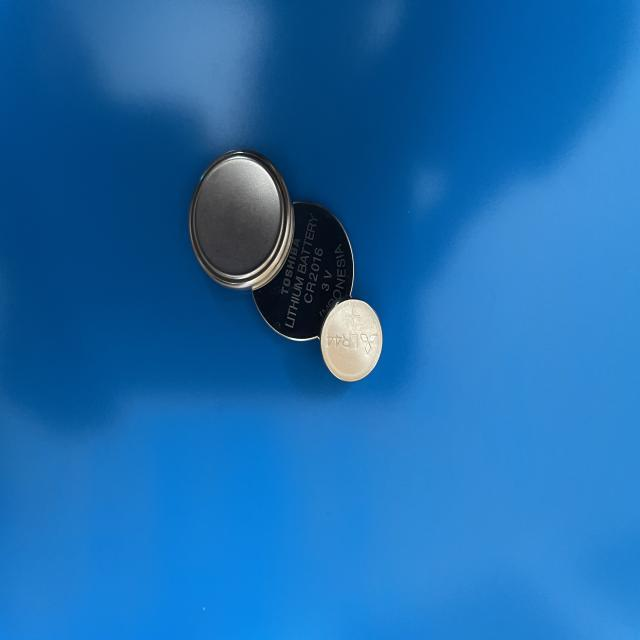COIN: (188, 148, 296, 294), (251, 198, 355, 346), (320, 294, 385, 386)
